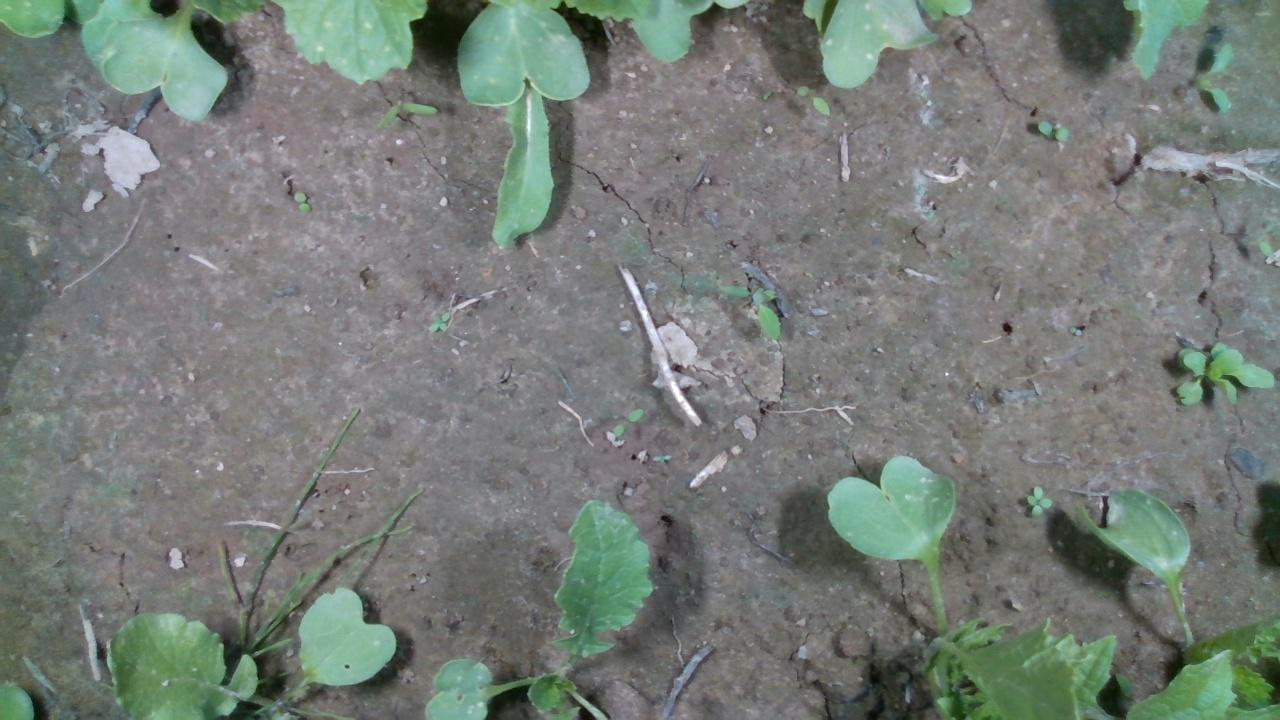weed: (716, 281, 783, 341), (1192, 38, 1235, 115), (374, 98, 437, 132), (793, 81, 832, 118), (607, 406, 644, 437), (1024, 482, 1052, 518), (1035, 118, 1072, 143), (291, 188, 312, 215), (646, 451, 674, 462)
